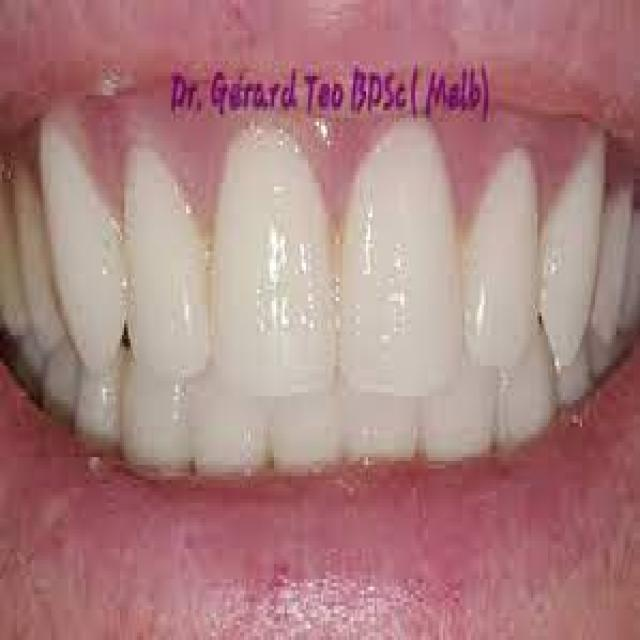tooth: (216, 126, 338, 392), (351, 122, 452, 381), (126, 145, 208, 381), (68, 126, 132, 339), (469, 137, 531, 354), (544, 126, 588, 362), (13, 171, 60, 339), (133, 388, 182, 484), (197, 404, 261, 468), (278, 404, 340, 468), (599, 179, 623, 343), (353, 400, 415, 461), (498, 374, 558, 431), (426, 396, 494, 446), (83, 370, 120, 446), (47, 354, 75, 408)
